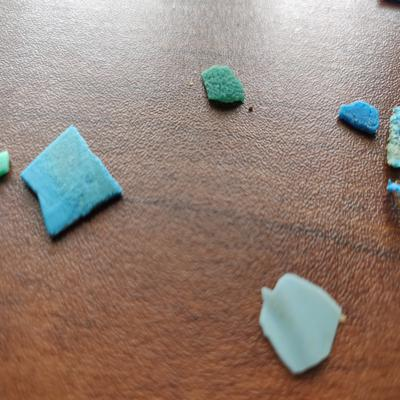plastic: (19, 119, 130, 246), (249, 261, 351, 378), (197, 61, 250, 111), (336, 90, 382, 141), (387, 103, 400, 173)
